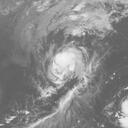cyclone: (44, 45, 92, 87)
